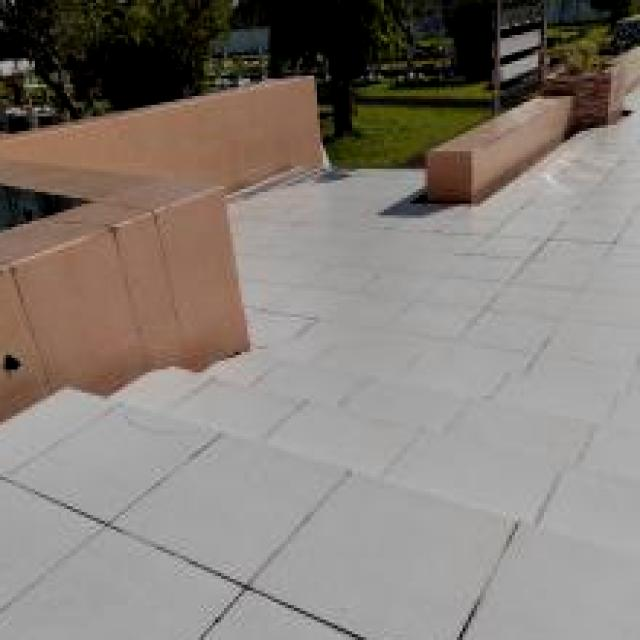upstair: (24, 307, 640, 566)
